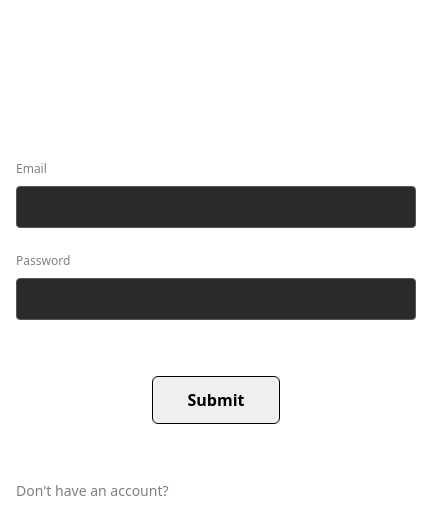
Test: LoginPage › shows email not found error on unknown email
The width and height of the screenshot is (433, 513).
In the field labelled "Email": (216, 207) [16,186,416,228], type "unknown@test.com"
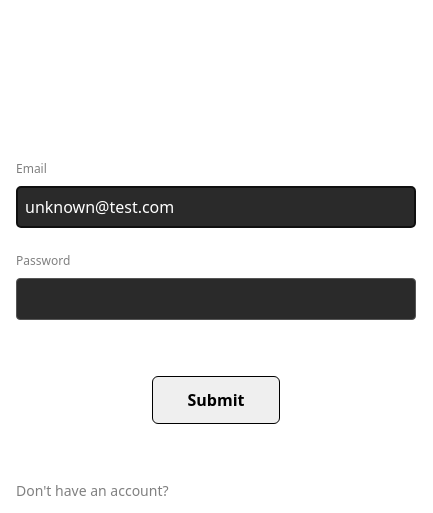
In the password field labelled "Password": (216, 299) [16,278,416,320], type "password123"
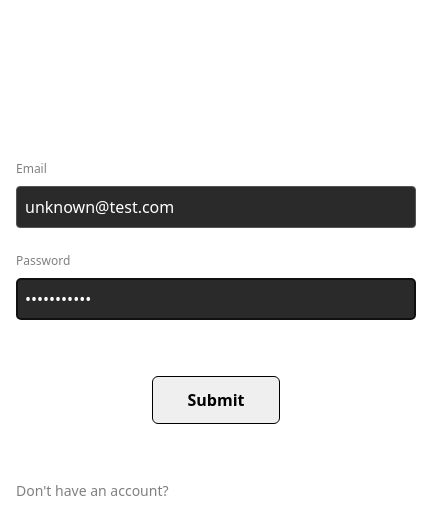
Click the button "Submit": (216, 400) [152,376,280,424]
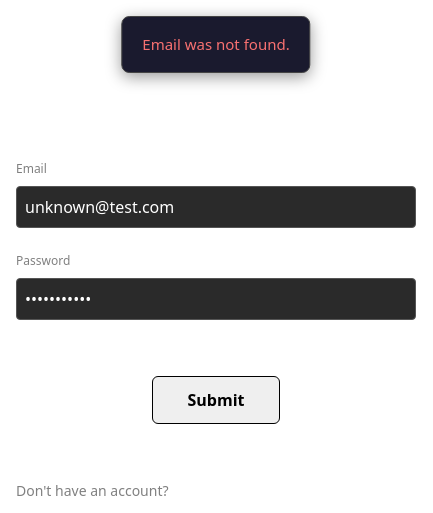
Result: the list item "Email was not found." is shown at [142,33,290,56]
